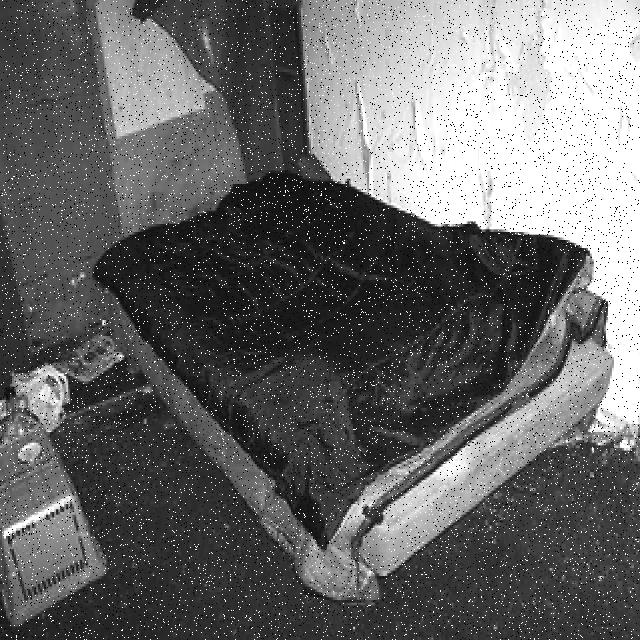bed: (92, 159, 615, 506)
